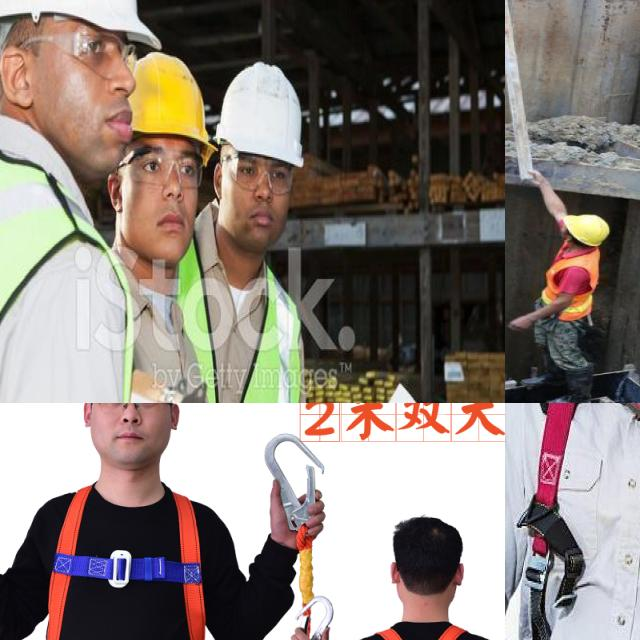Harness: (41, 486, 213, 640), (517, 403, 586, 640)
No_Ear-Protection: (0, 39, 37, 113), (107, 171, 127, 213), (212, 160, 226, 202)
face_nomask: (36, 19, 140, 176), (138, 146, 198, 262), (232, 156, 294, 252)
glasses: (66, 26, 138, 86), (132, 142, 204, 194), (226, 153, 293, 197)
hand_noglove: (515, 170, 554, 196), (505, 314, 531, 336), (505, 19, 518, 48)
head_helmet: (215, 55, 311, 169), (121, 50, 213, 150), (0, 0, 172, 44), (566, 214, 612, 251)
person: (0, 0, 143, 403), (192, 60, 313, 403), (112, 30, 215, 403), (526, 171, 625, 403)
vest: (0, 168, 117, 403), (182, 236, 302, 403), (534, 246, 612, 320)
